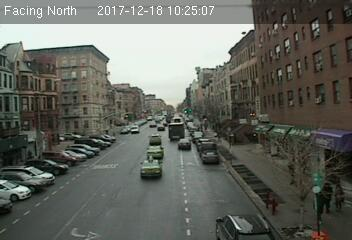car: (214, 216, 269, 240), (140, 158, 161, 177), (145, 145, 165, 158), (202, 150, 218, 162), (178, 137, 189, 148), (149, 134, 161, 143)
ups: (167, 122, 185, 141)
